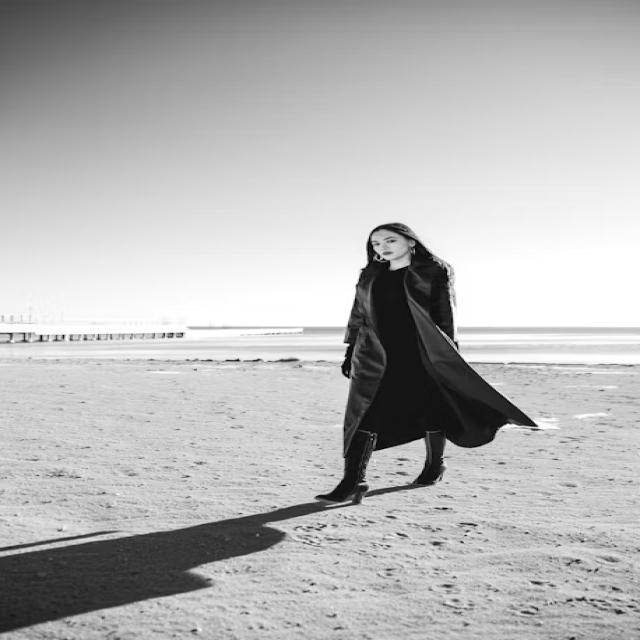Edited images: (317, 208, 533, 532)
